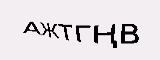А: (23, 20, 40, 35)
В: (119, 20, 143, 46)
Г: (73, 22, 89, 44)
Ж: (40, 19, 58, 39)
Т: (57, 21, 74, 41)
Ң: (91, 22, 120, 50)
